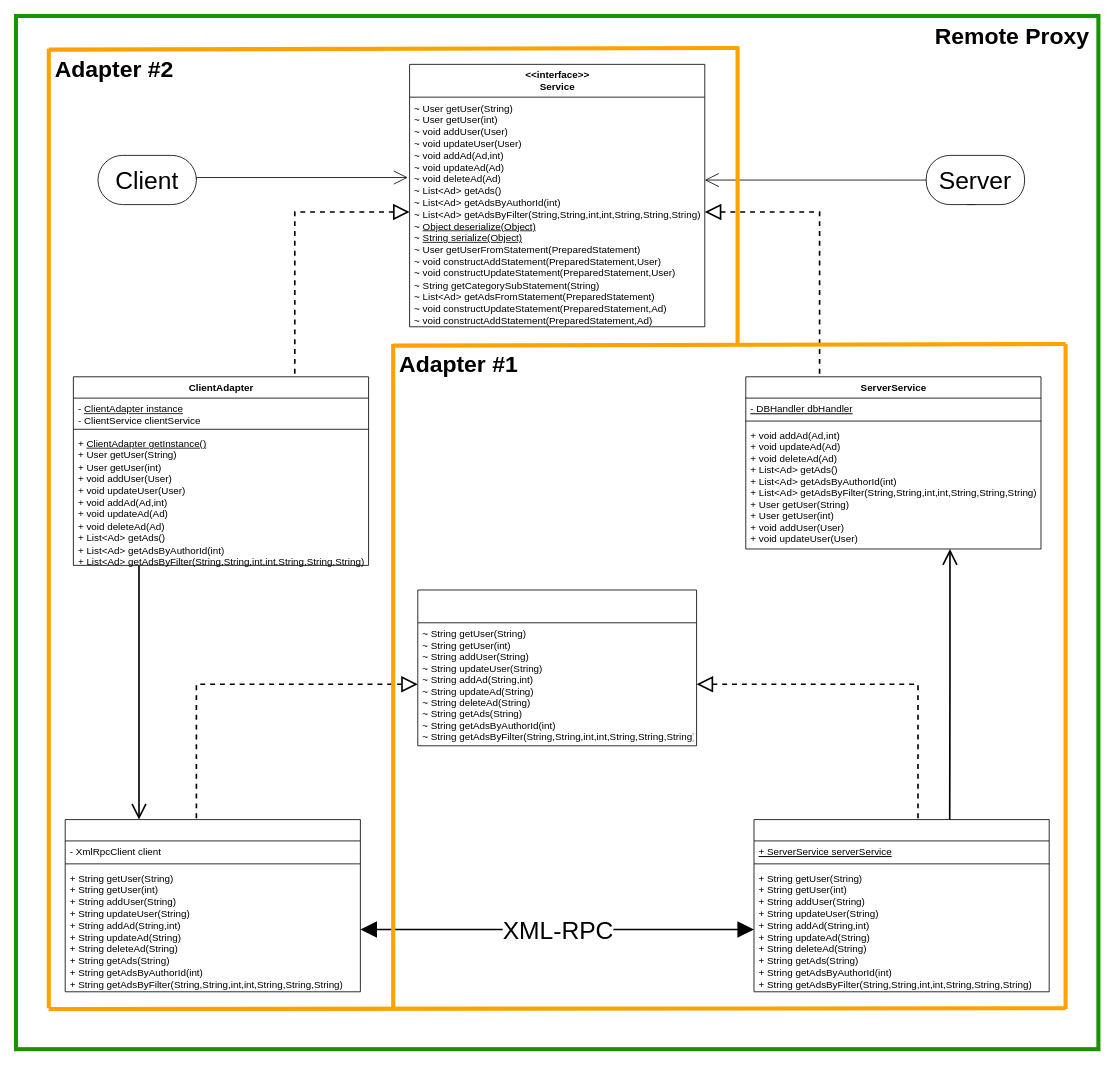
This 1114x1065 diagram has some shape labels left out. Here are the shapes that lost their labels. From the top down, the box of each, then its label:
(417, 589, 697, 746): <<interface>> RemoteServerTarget
(64, 819, 360, 992): ClientService
(753, 819, 1049, 992): ServerAdapter
